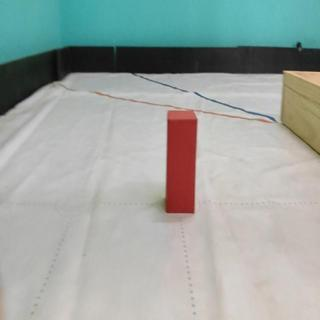redbox: (165, 109, 197, 213)
